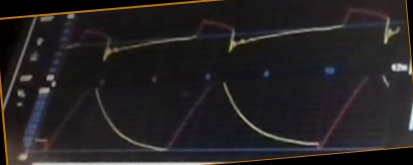Accumulation Flow: (69, 8, 401, 61)
Volume: (35, 75, 391, 154)
